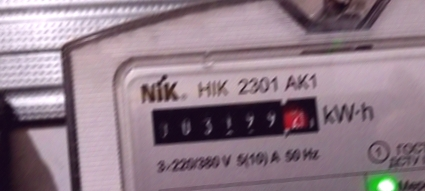0: (156, 118, 171, 140), (179, 115, 193, 136)
1: (223, 110, 235, 130)
3: (201, 115, 215, 135)
6: (291, 114, 303, 131)
9: (244, 108, 257, 129), (265, 108, 278, 128)
screen: (144, 85, 331, 160)
